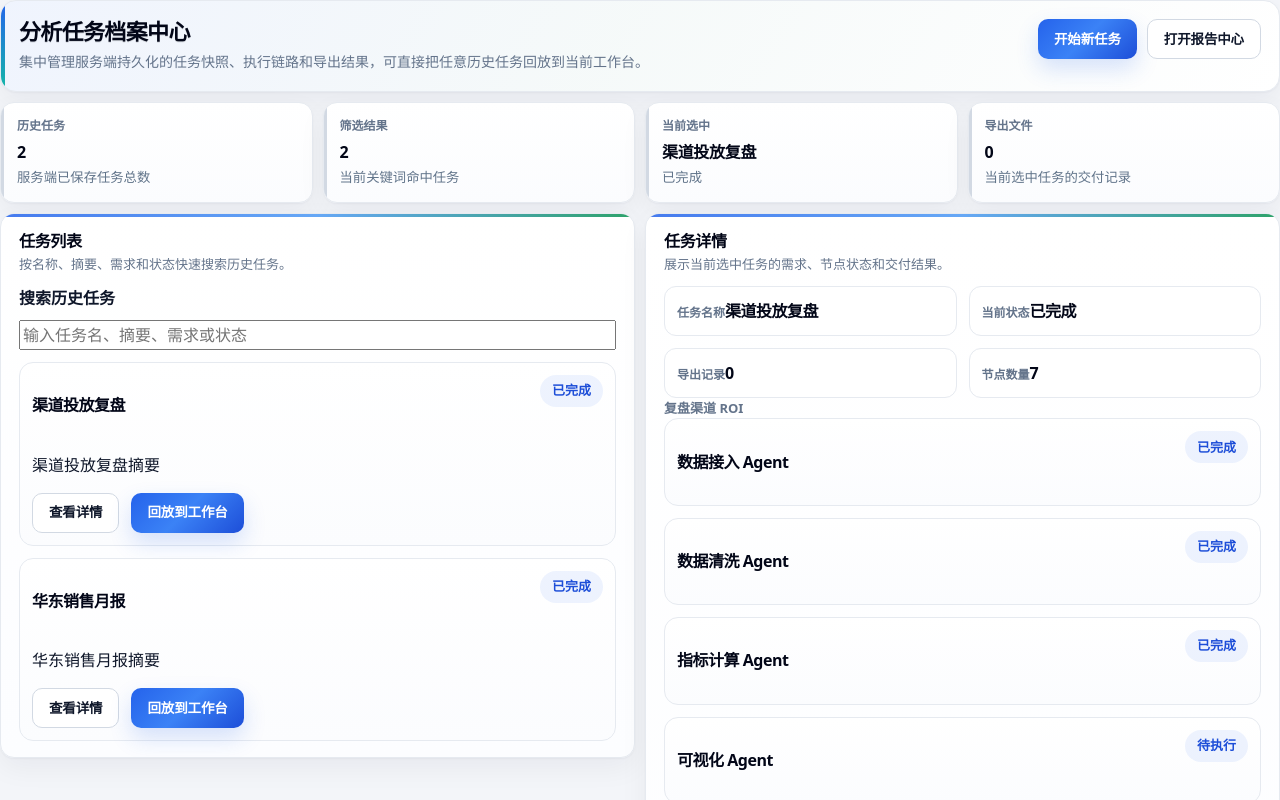
Test case: history page › filters recent tasks by keyword
Expected: the heading "华东销售月报" is shown, [32,592,125,611]
Step 1. Type "渠道投放" into the search field with placeholder "输入任务名、摘要、需求或状态" → (318, 335), box [19,320,616,350]
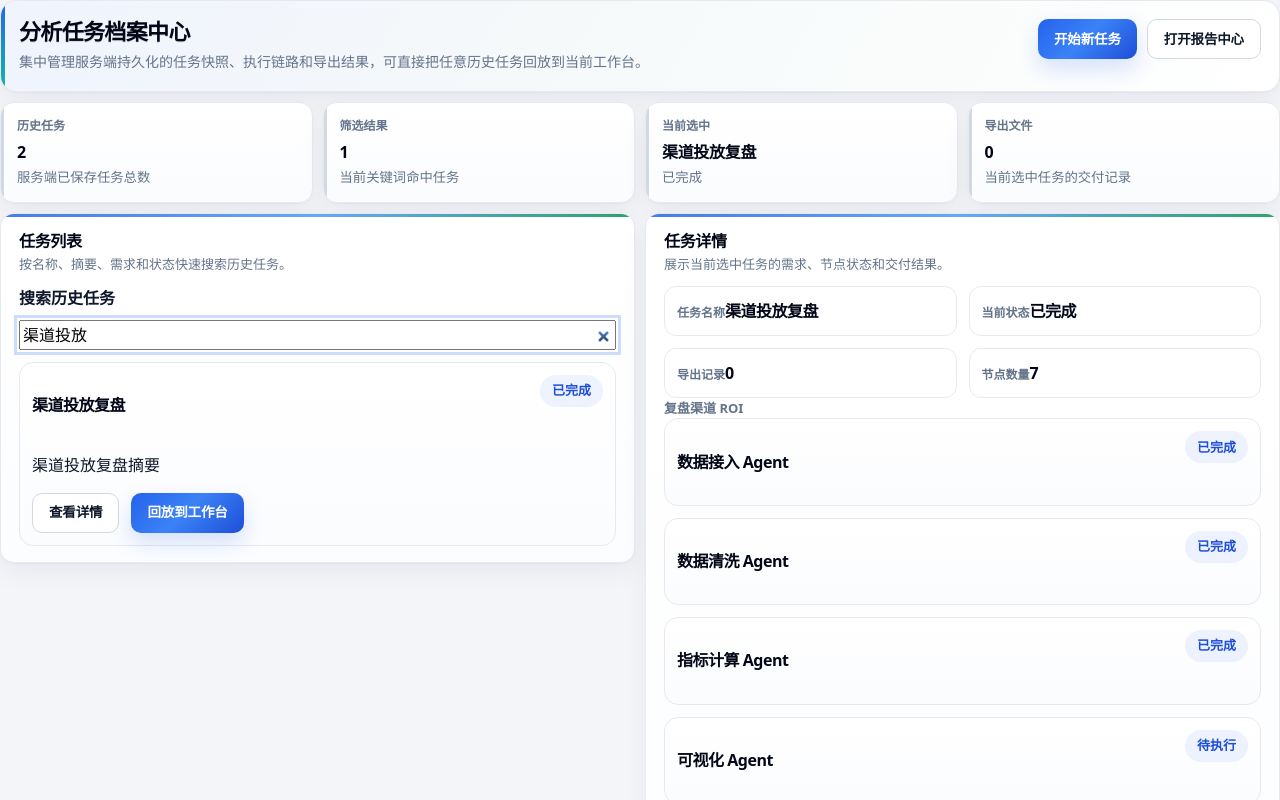
Expected: the heading "渠道投放复盘" is shown, [32,396,125,415]
Now the heading "华东销售月报" is gone
